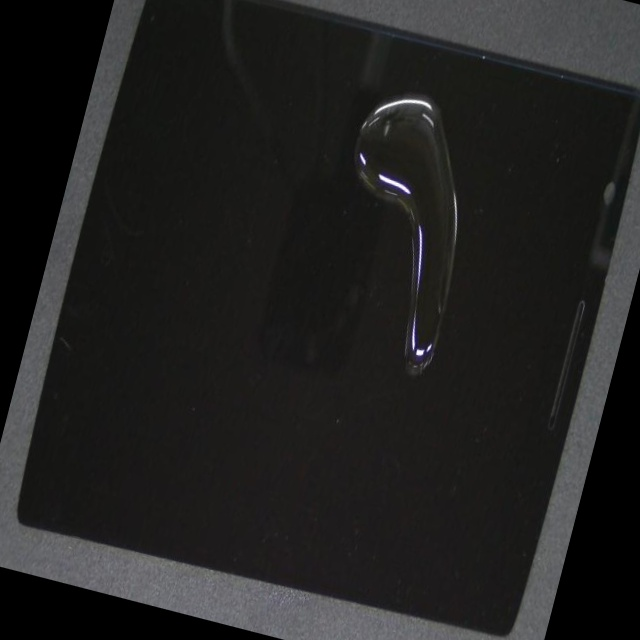oil: (167, 116, 640, 605)
